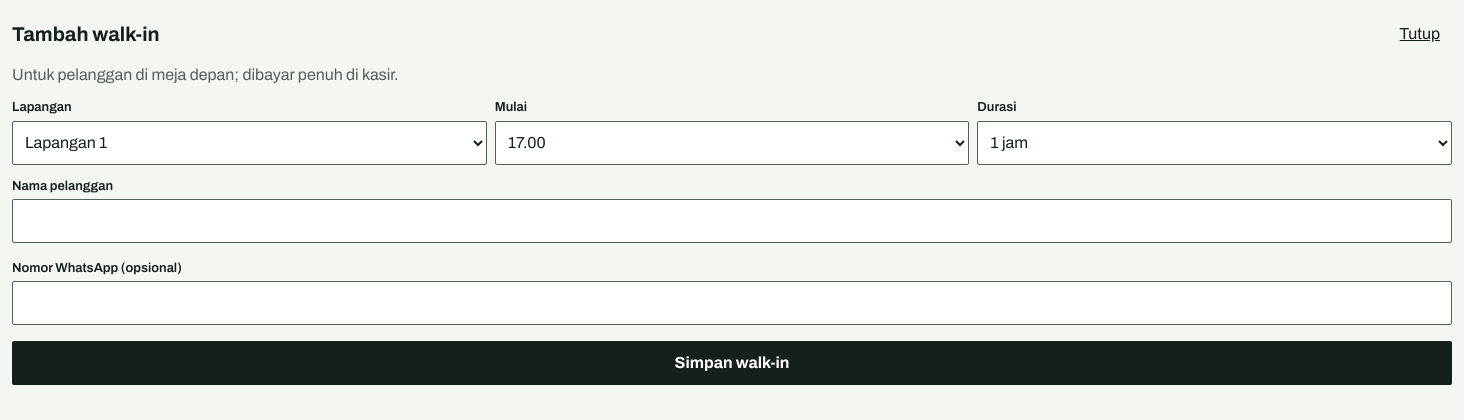
Test: WalkInForm › asks for a name and accepts a walk-in without a phone number
Click the button "Simpan walk-in" at x=732, y=363, box [12,341,1452,385]
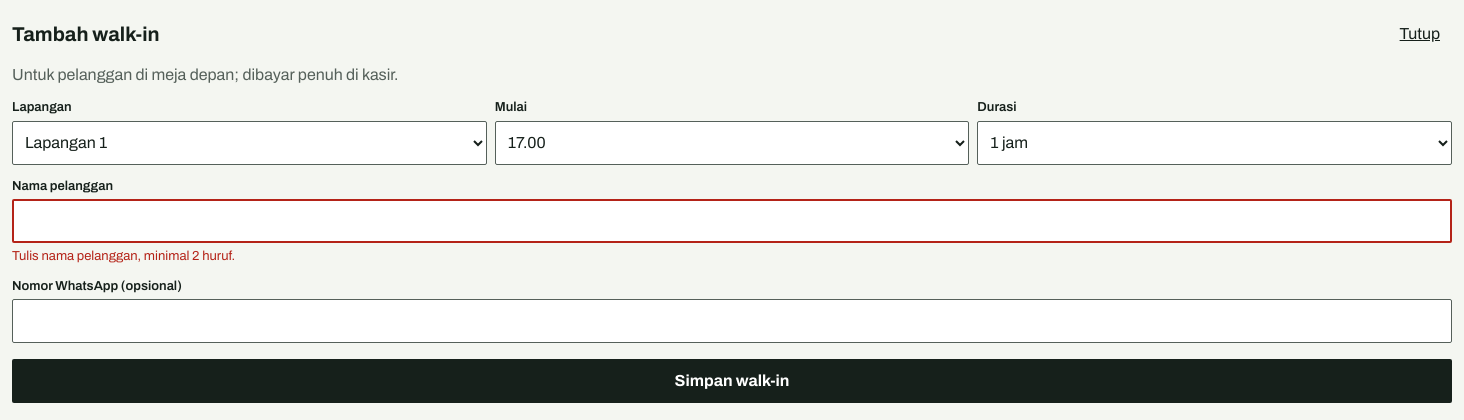
Check: the text "Tulis nama pelanggan, minimal 2 huruf." is shown, box [12,249,235,263]
